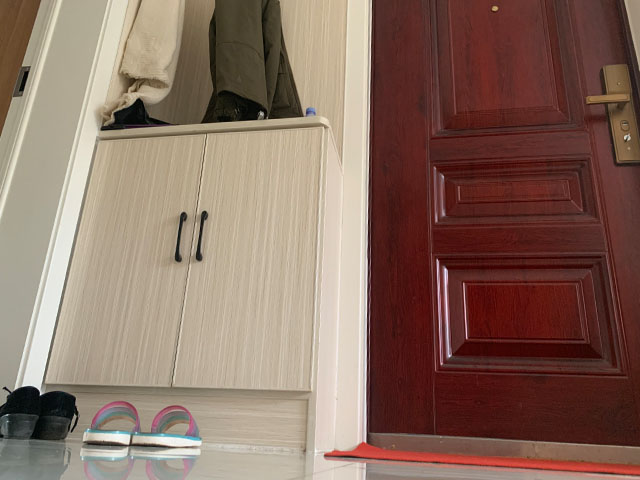cabinet: (37, 115, 344, 456)
carpet: (323, 441, 640, 478)
slippers: (134, 402, 205, 447), (84, 399, 140, 444)
